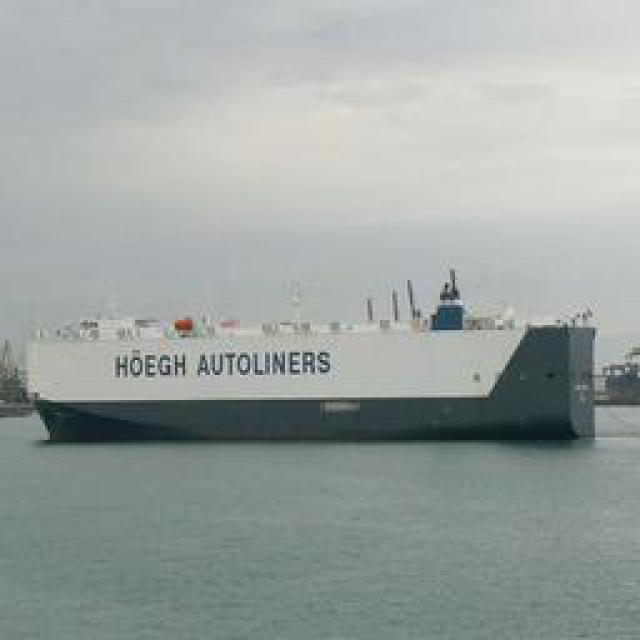Ship: (19, 258, 599, 448)
